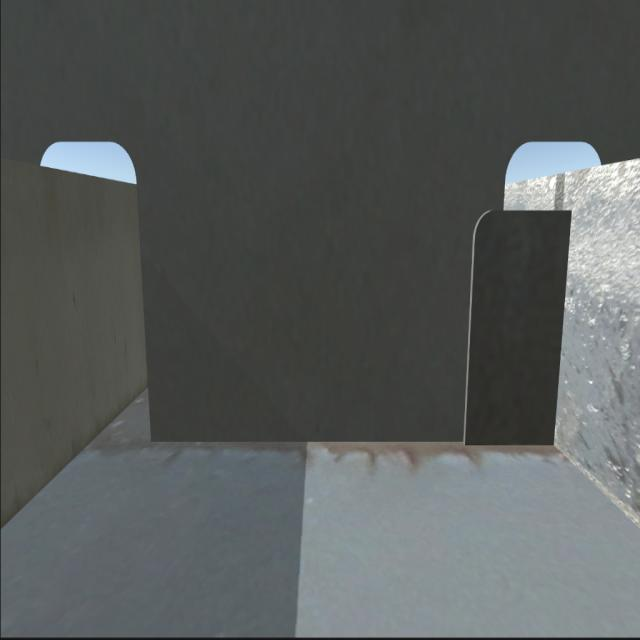fillet_yong_jeop_jang: (156, 438, 555, 453)
longi_yong_jeop_jang: (555, 216, 570, 446)
plate_CP05: (468, 212, 566, 446)
